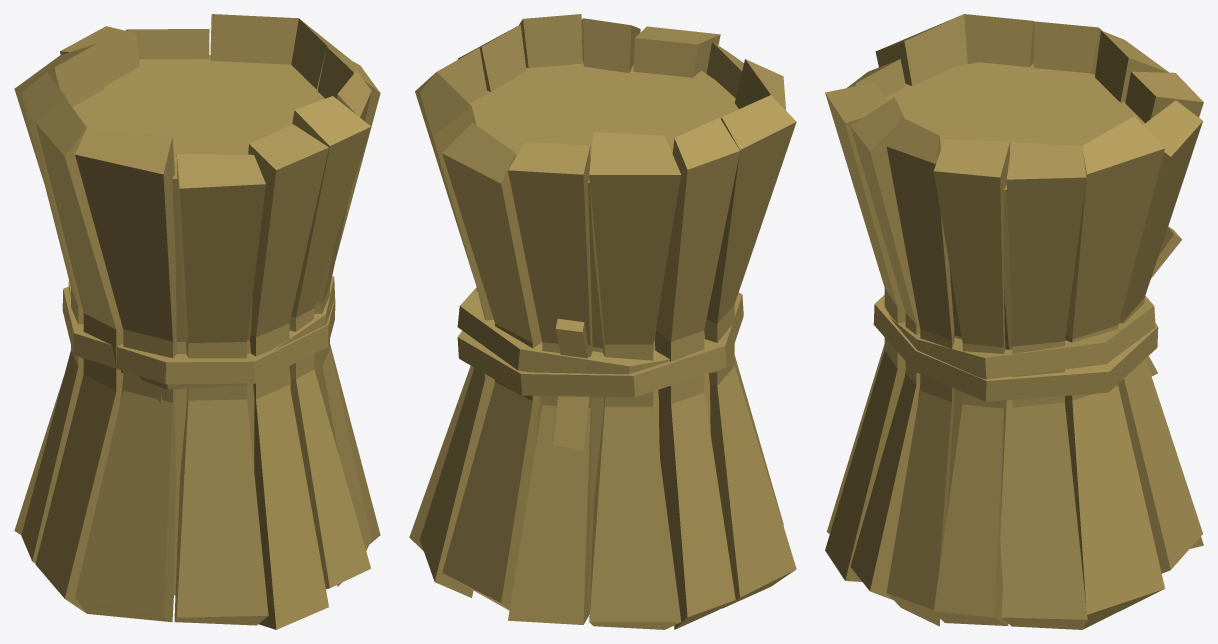
Rendered from Hay.glb.
3 views of the same model, side by side, from view 1: azimuth 30°, elevation 25°; view 2: azimuth 150°, elevation 25°; view 3: azimuth 270°, elevation 25° (orthographic).
Parts seen in each view (by area): view 1: Hay; view 2: Hay; view 3: Hay.
Boxes of the visible parts, bbox=[...] form: Hay: bbox=[14, 14, 380, 629]; Hay: bbox=[409, 14, 796, 629]; Hay: bbox=[825, 14, 1203, 629].
Bounding box in the file's own units: 0.121 × 0.1785 × 0.1249.
